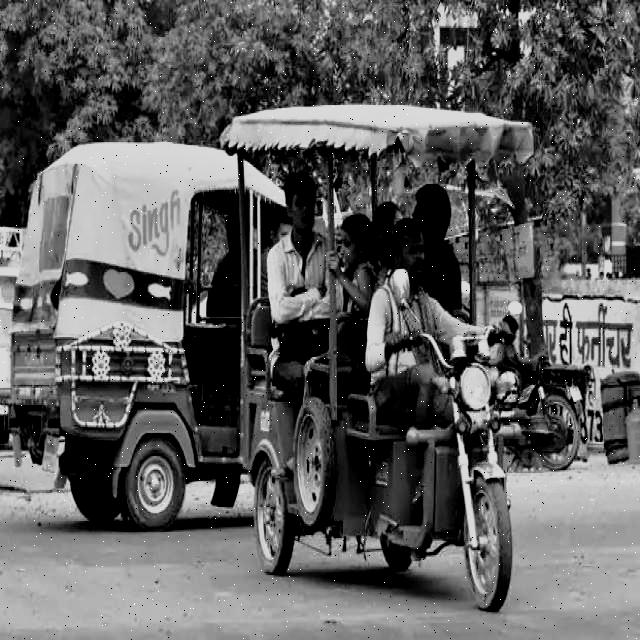Toto: (227, 105, 523, 605)
